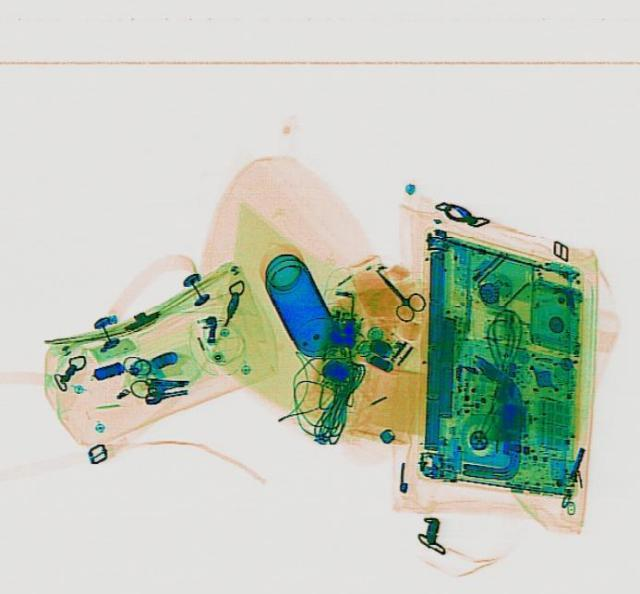Scissors: (360, 259, 430, 323)
